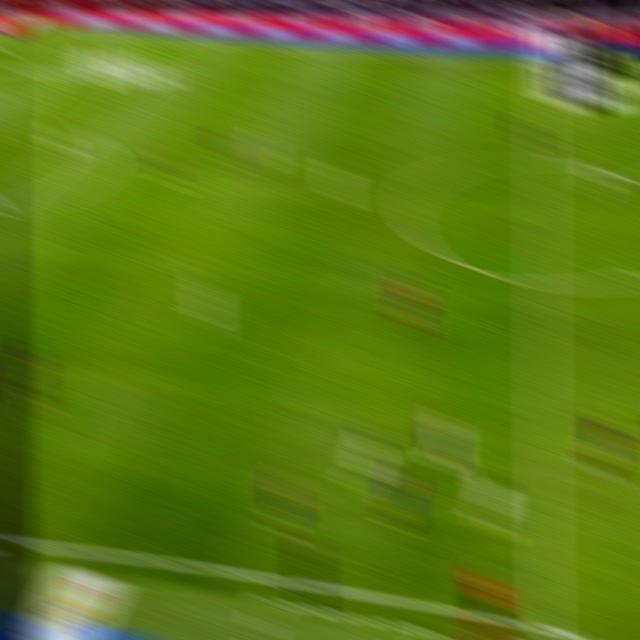corner: (35, 16, 58, 33)
halfcircle_bottom: (526, 262, 555, 302)
halfcircle_top: (526, 143, 556, 178)
midline_bottom_intersection: (528, 600, 562, 640)
top_arc_area_intersection: (78, 120, 101, 141)
